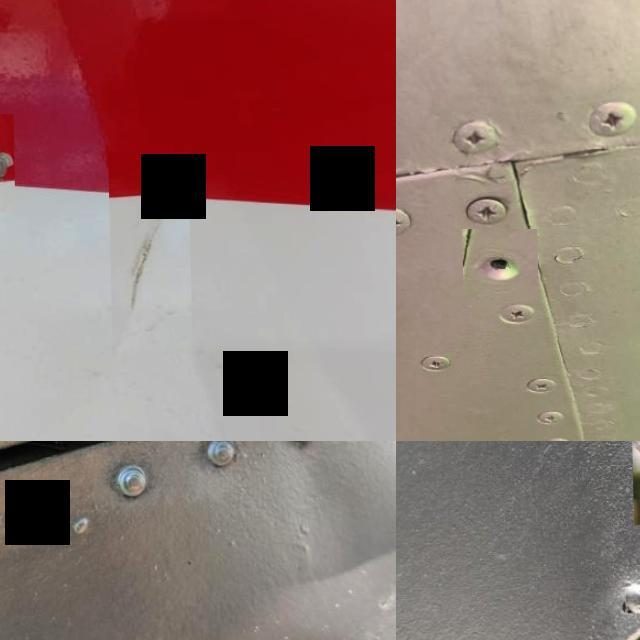Crack: (107, 152, 191, 355), (0, 114, 14, 212)
Missing_Fastener: (461, 229, 537, 300)
